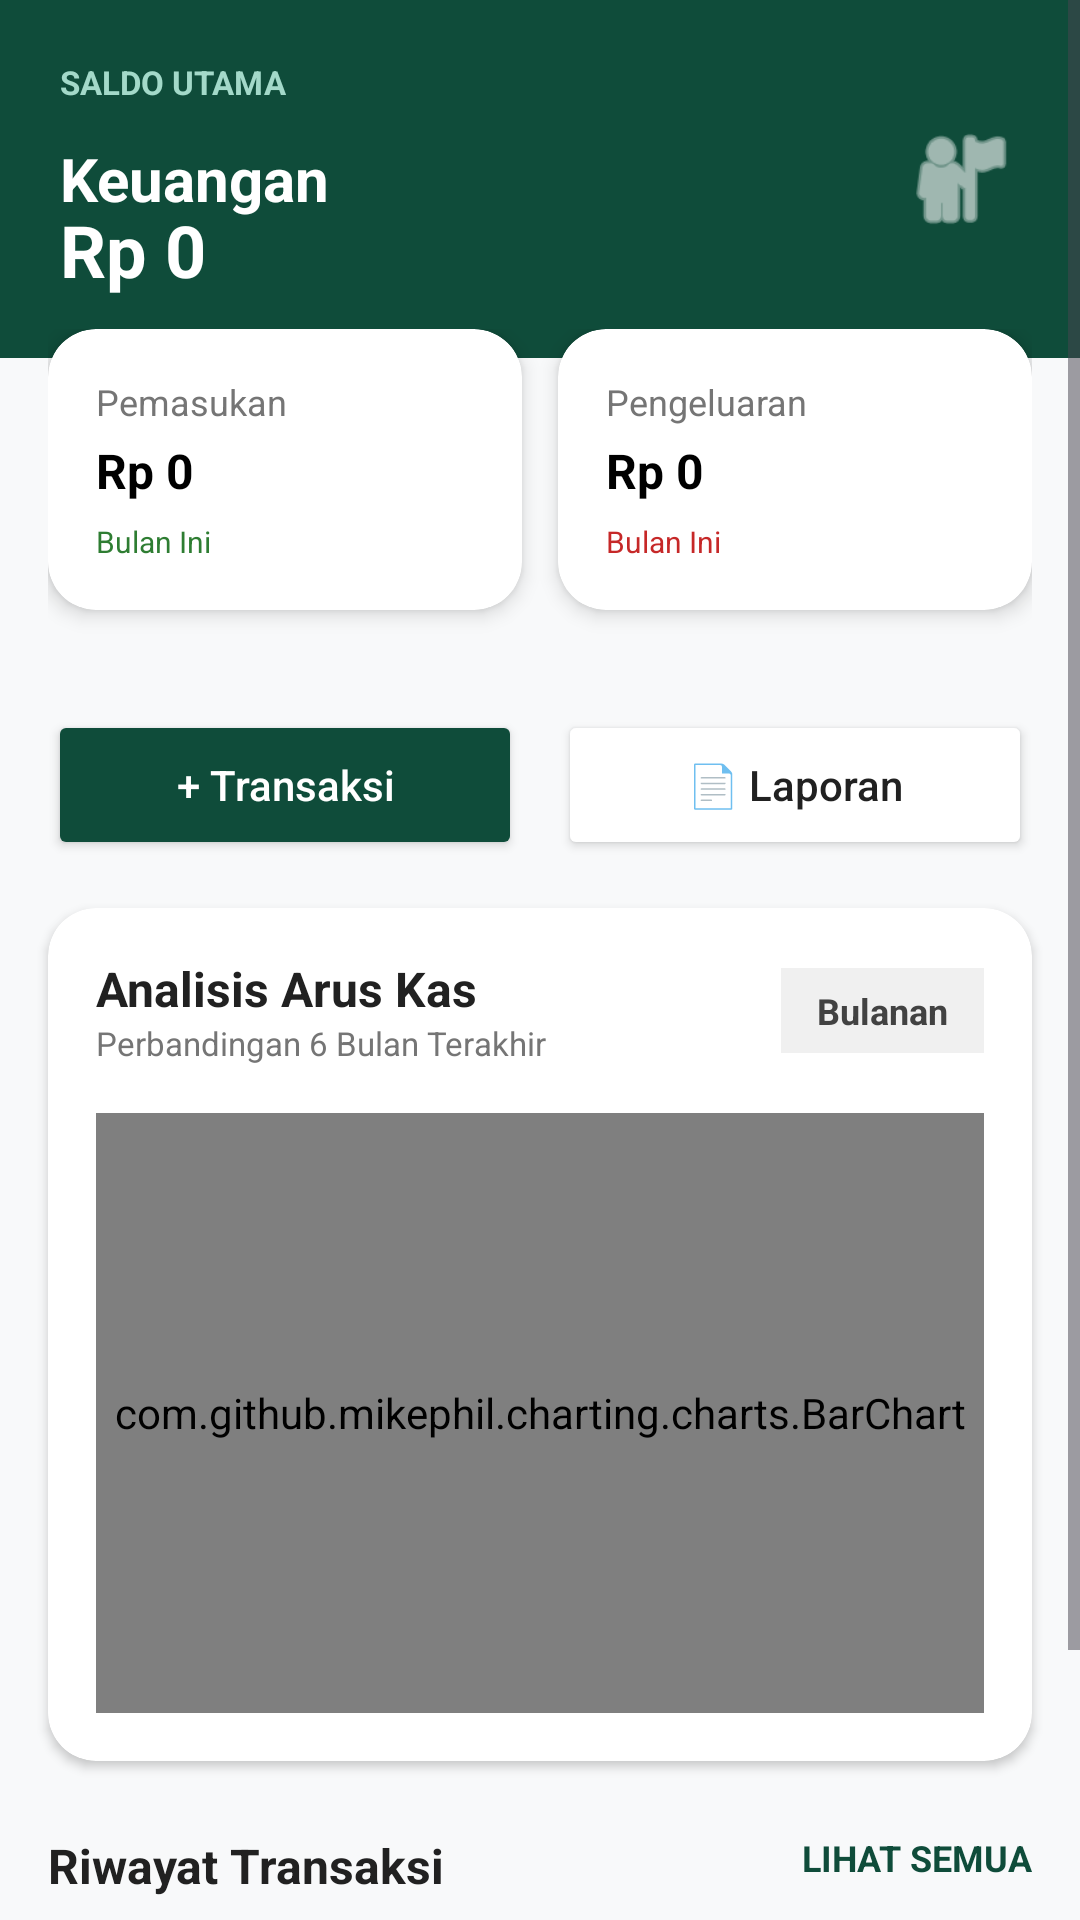

Named icons in this screenshot (1080w x 1920h) and their bounding boxes, (x1, y1, x2, y2):
myplaces: (916, 134, 1006, 224)
